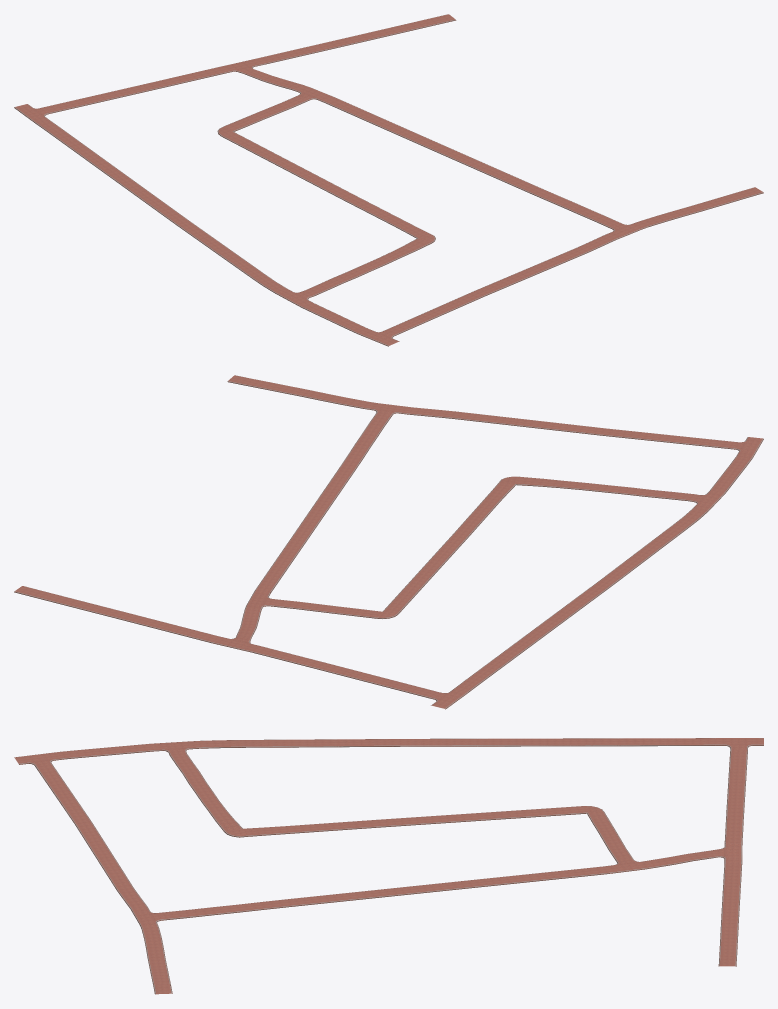
The model's file is weg deel 4.fbx.
The picture shows the model from 3 angles, top to bottom: view 1: azimuth 30°, elevation 25°; view 2: azimuth 150°, elevation 25°; view 3: azimuth 270°, elevation 25°; orthographic projection. The views are drawn at different scales.
Visible parts, largest first — view 1: polySurface96; view 2: polySurface96; view 3: polySurface96.
Part boxes in pixels (x1,y1,x2,y2): polySurface96: (14,14,763,346); polySurface96: (14,375,763,709); polySurface96: (14,738,763,994).
Size of the model in its own units: 136 by 0.3855 by 168.
